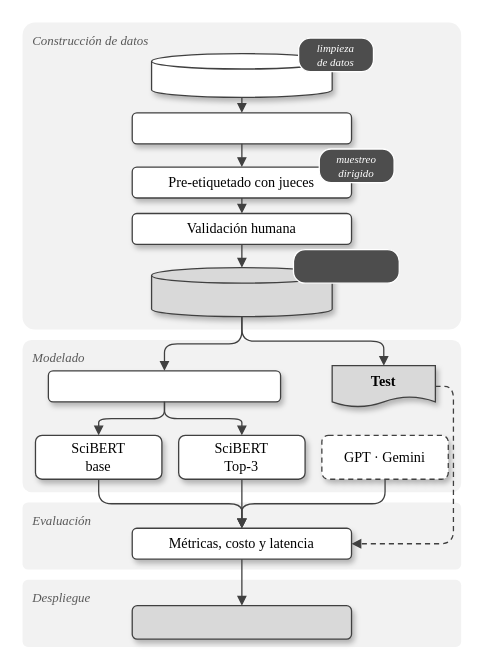
Image size: 485x671. Some labels were removed from this diagram. Each missing label, with the centre of its shape:
aislamiento por documento: point 345,265
Aplicación CiteScope: point 242,623
Corpus unarXive: point 242,76
Dataset: point 242,293
Recuperación Top-3: point 242,129
Training · Validation: point 165,387
